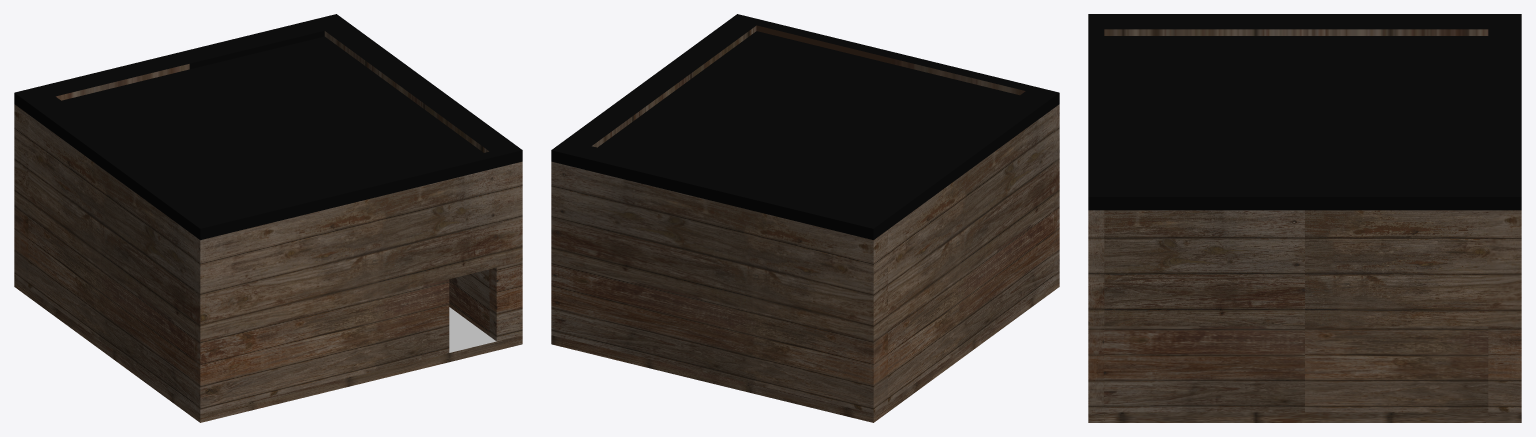
File: Caseta.fbx
3 renders of one model, left to right at view 1: azimuth 30°, elevation 25°; view 2: azimuth 150°, elevation 25°; view 3: azimuth 270°, elevation 25°, orthographic. The views are drawn at different scales.
Parts seen in each view (by area): view 1: Cube; view 2: Cube; view 3: Cube.
Part boxes in pixels (x1,y1,x2,y2): Cube: [14, 14, 522, 422]; Cube: [551, 14, 1059, 422]; Cube: [1088, 14, 1521, 422].
Bounding box in the file's own units: 1193 × 686 × 1193.
